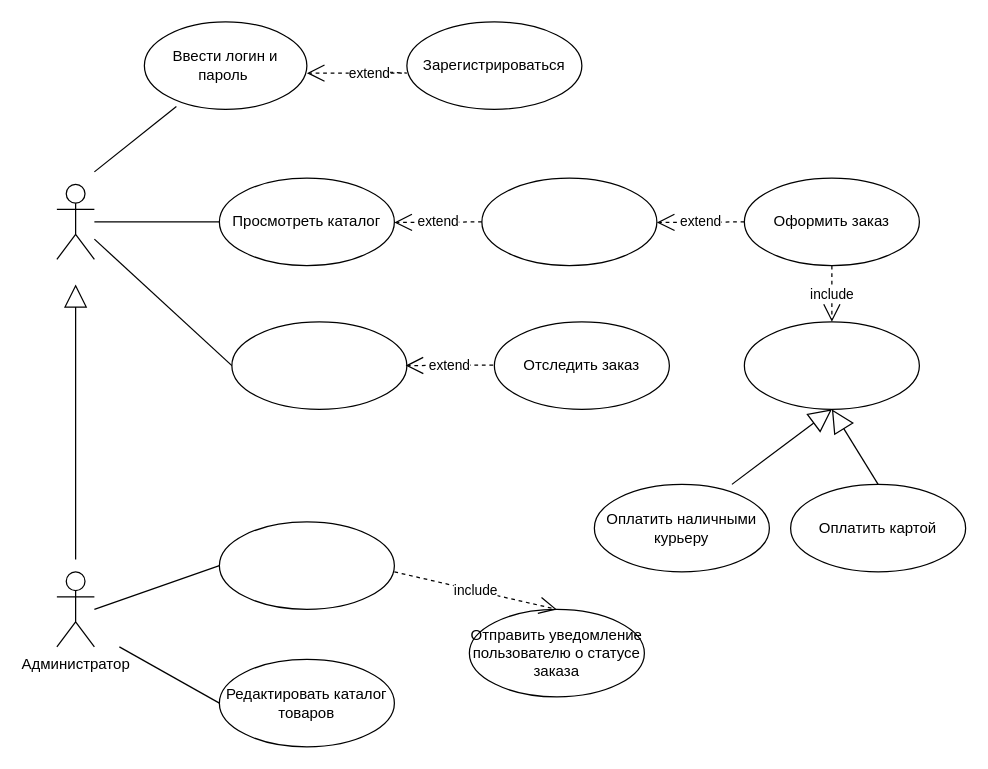
This 988x769 diagram has some shape labels left out. The shapes that lost their labels are listed below. From the top down, each one's box as (x1, y1, x2, y2) in pixels, then its label:
(56, 183, 94, 259): Пользователь
(481, 177, 657, 266): Добавить товар в корзину
(231, 321, 407, 409): Просмотреть заказы
(743, 321, 919, 409): Выбрать способ оплаты
(218, 521, 394, 609): Изменить статус заказа
